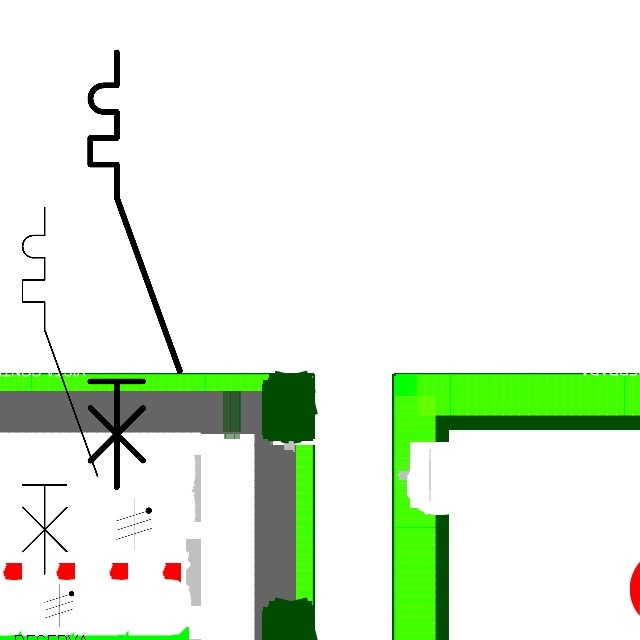interruptor_termomagnetico: (79, 41, 191, 498), (13, 198, 107, 584)
